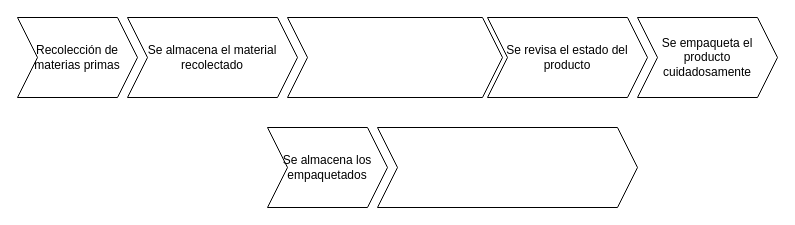
Some shapes in this 795 by 225 pixel diagram are drawn without their labels. The centre of each missing label's shape, as x and y in pixels:
Se distribuye a tiendas para su venta: point (507, 167)
Se procesa la materia prima, para hacer joyas.: point (394, 57)
